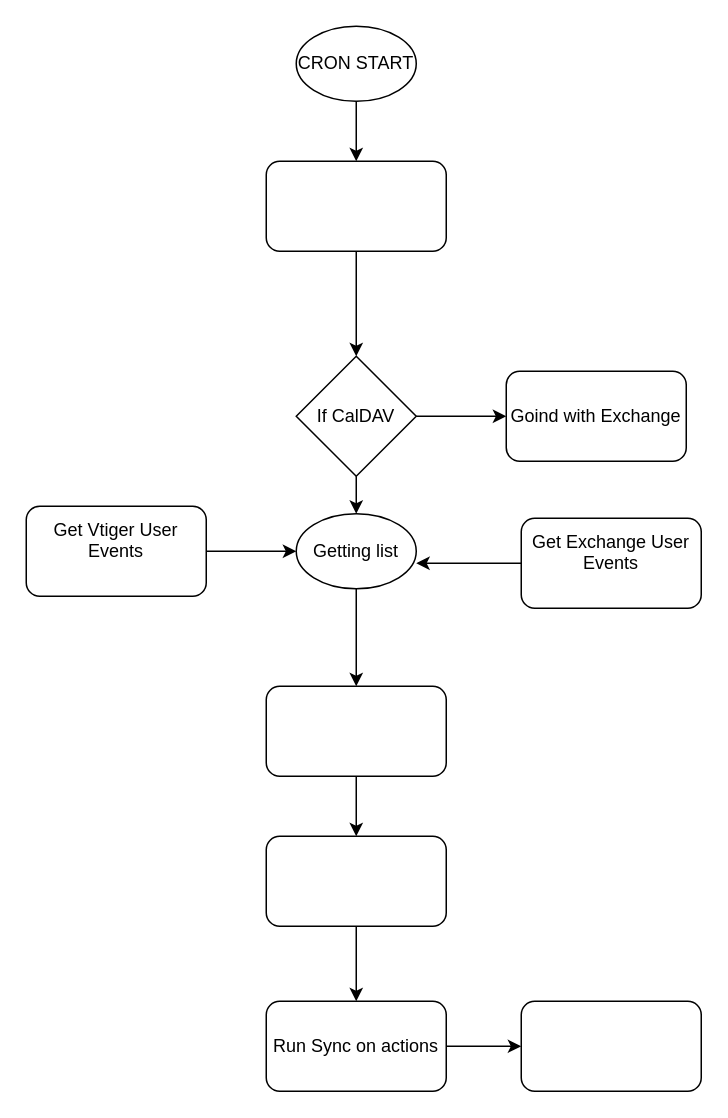
The diagram is 728 pixels wide and 1118 high, and some of its shapes have lost their labels. Each missing label, with the centre of its shape:
Add or update boundary: point (610, 1045)
Cron Service: point (355, 205)
Define Actions: point (355, 880)
Event Differences: point (355, 730)
